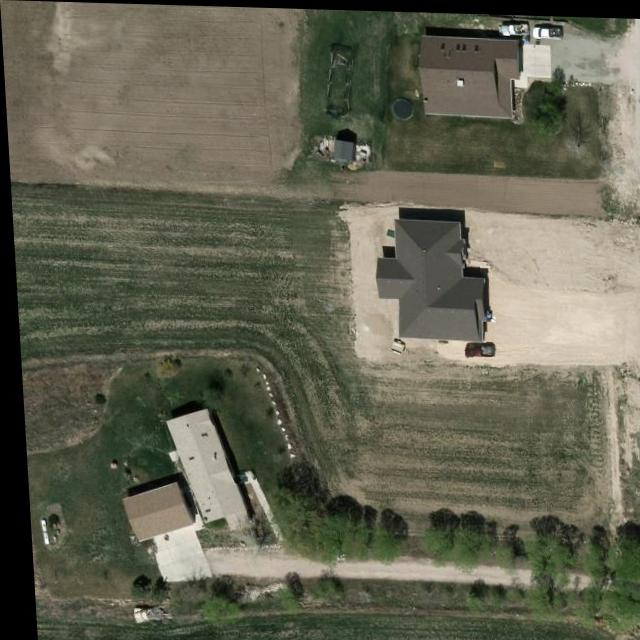vehicle: (457, 339, 494, 355), (125, 605, 156, 622), (501, 19, 530, 35), (532, 24, 563, 36)
